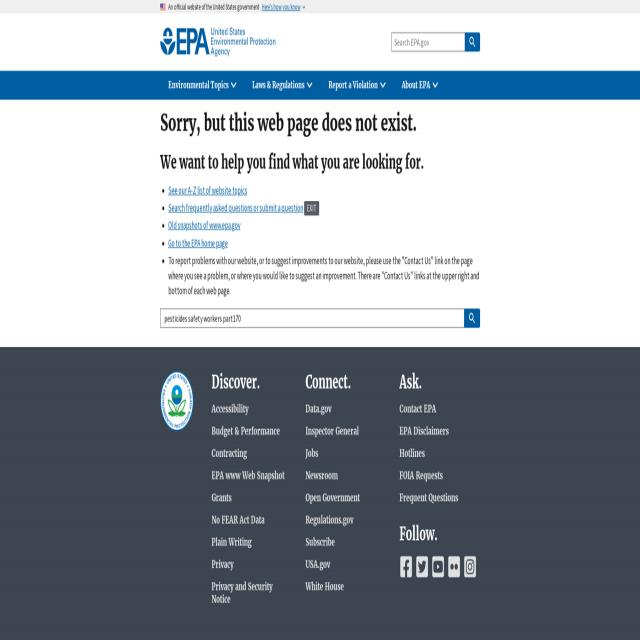button: (160, 28, 276, 56), (160, 70, 244, 100), (244, 70, 321, 100), (320, 70, 394, 100), (160, 371, 194, 431), (394, 70, 446, 100), (262, 2, 300, 12), (399, 555, 413, 579), (415, 555, 429, 579), (431, 555, 445, 579), (447, 555, 461, 579), (463, 555, 477, 579), (464, 308, 480, 328), (465, 32, 480, 52), (160, 4, 166, 10)
field: (160, 308, 464, 328), (391, 32, 465, 52)
